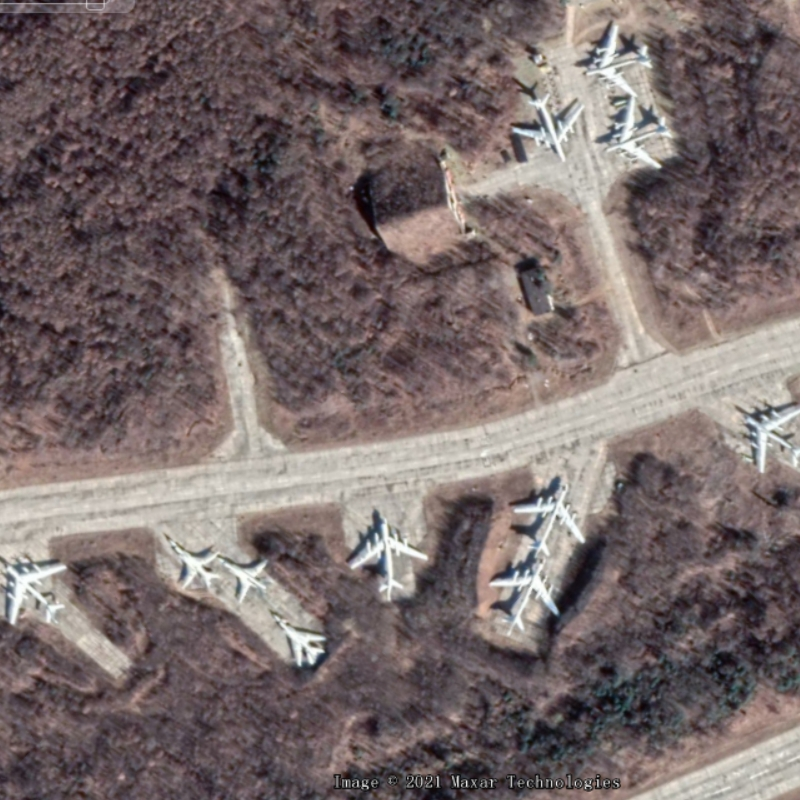A12: (267, 608, 329, 671), (166, 535, 223, 595), (217, 554, 273, 603)
A17: (344, 517, 430, 598), (508, 477, 591, 559), (484, 556, 564, 636), (507, 89, 588, 168), (579, 18, 656, 101), (601, 94, 675, 172), (1, 553, 69, 632), (736, 398, 800, 476)
